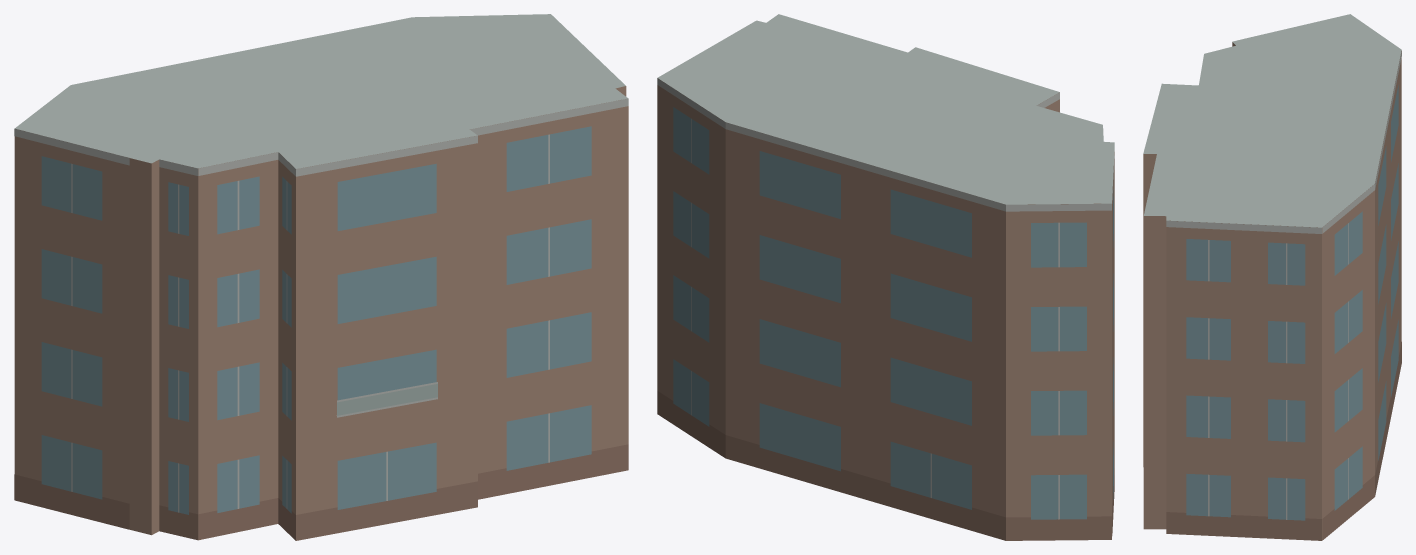
File: survey-upis-33035514.glb
3 views of the same model, side by side, from view 1: azimuth 30°, elevation 25°; view 2: azimuth 150°, elevation 25°; view 3: azimuth 270°, elevation 25° (orthographic). The views are drawn at different scales.
Visible parts, largest first — view 1: survey-upis-33035514.tmp; view 2: survey-upis-33035514.tmp; view 3: survey-upis-33035514.tmp.
Part boxes in pixels (left/top/right/bottom): survey-upis-33035514.tmp: left=14, top=14, right=628, bottom=540; survey-upis-33035514.tmp: left=657, top=14, right=1114, bottom=540; survey-upis-33035514.tmp: left=1143, top=14, right=1401, bottom=540.
Size of the model in its own units: 17.27 by 11.8 by 8.84.
